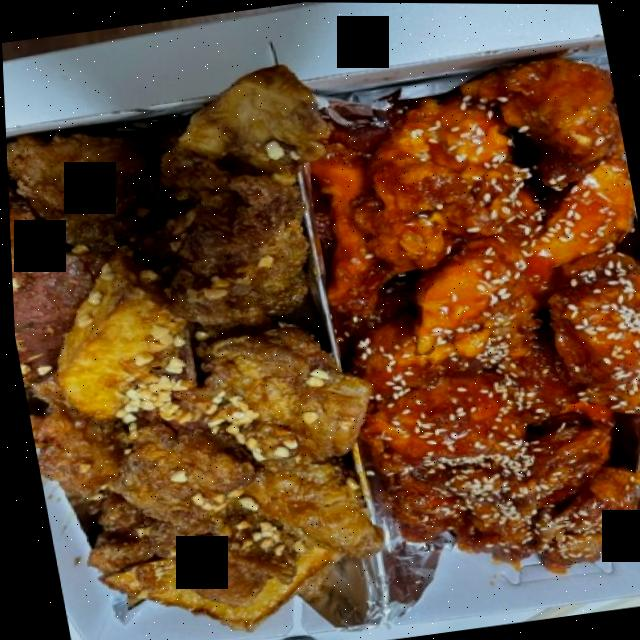Frango: (3, 87, 392, 640), (311, 62, 640, 584)
